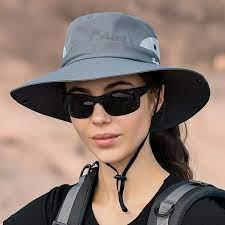cap: (0, 9, 216, 138)
sunglasses: (59, 87, 145, 124)
